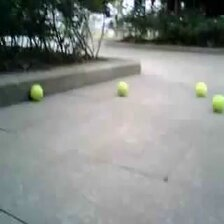tennis: (30, 85, 44, 100), (211, 95, 224, 110), (116, 82, 129, 96), (195, 83, 206, 95)
